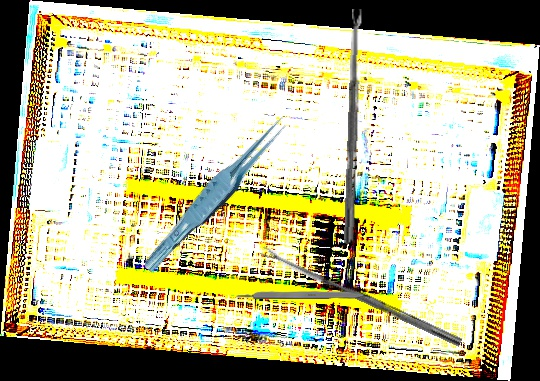Scalpel Handle: (235, 290, 368, 299)
Surgical Spoon: (260, 245, 463, 347), (343, 8, 364, 245)
Tissue Forceps: (132, 112, 303, 275)
